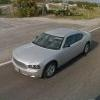Car: (8, 20, 95, 82)
